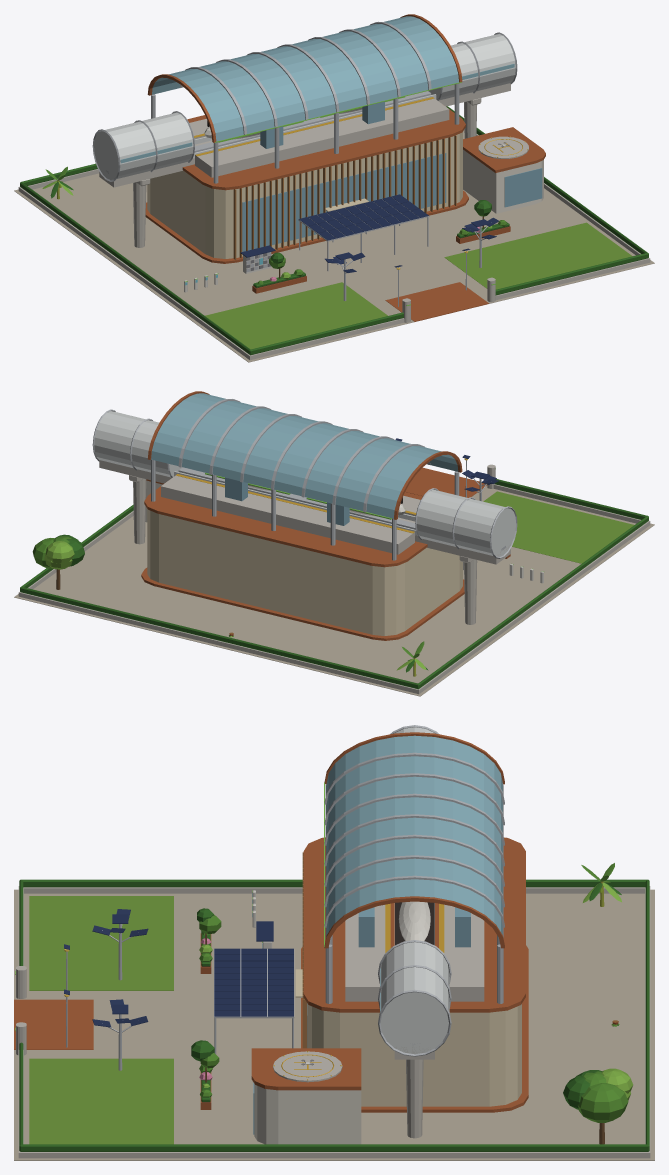
Rendered from station.glb.
The picture shows the model from 3 angles, top to bottom: view 1: azimuth 30°, elevation 25°; view 2: azimuth 150°, elevation 25°; view 3: azimuth 270°, elevation 25°; orthographic projection. The views are drawn at different scales.
Visible parts, largest first — view 1: body, windows; view 2: body; view 3: body, windows.
Part boxes in pixels (bbox=[...]): body: bbox=[14, 14, 654, 362]; windows: bbox=[185, 82, 527, 305]; body: bbox=[14, 391, 654, 696]; body: bbox=[14, 725, 654, 1160]; windows: bbox=[15, 782, 434, 1080].
Size of the model in its own units: 47.9 by 17.67 by 47.9.
